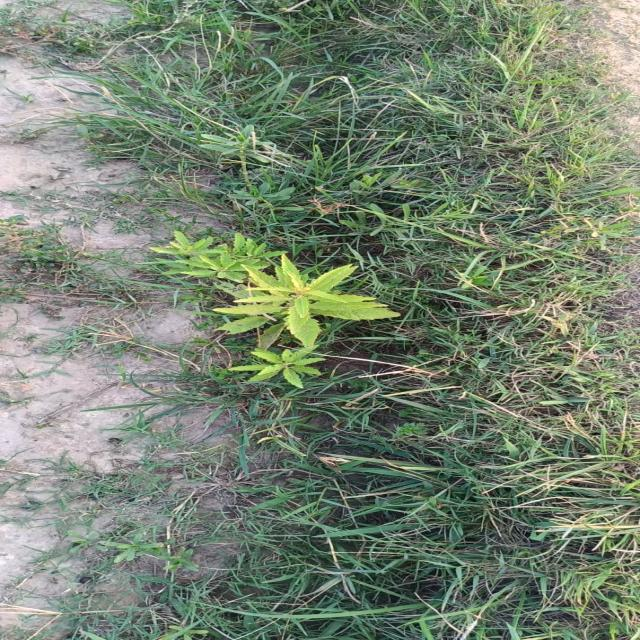plant: (151, 231, 398, 351), (233, 351, 306, 387)
